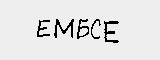Б: (74, 15, 90, 38)
Е: (103, 18, 121, 45), (34, 15, 52, 39)
М: (52, 15, 76, 39)
С: (90, 17, 103, 42)
